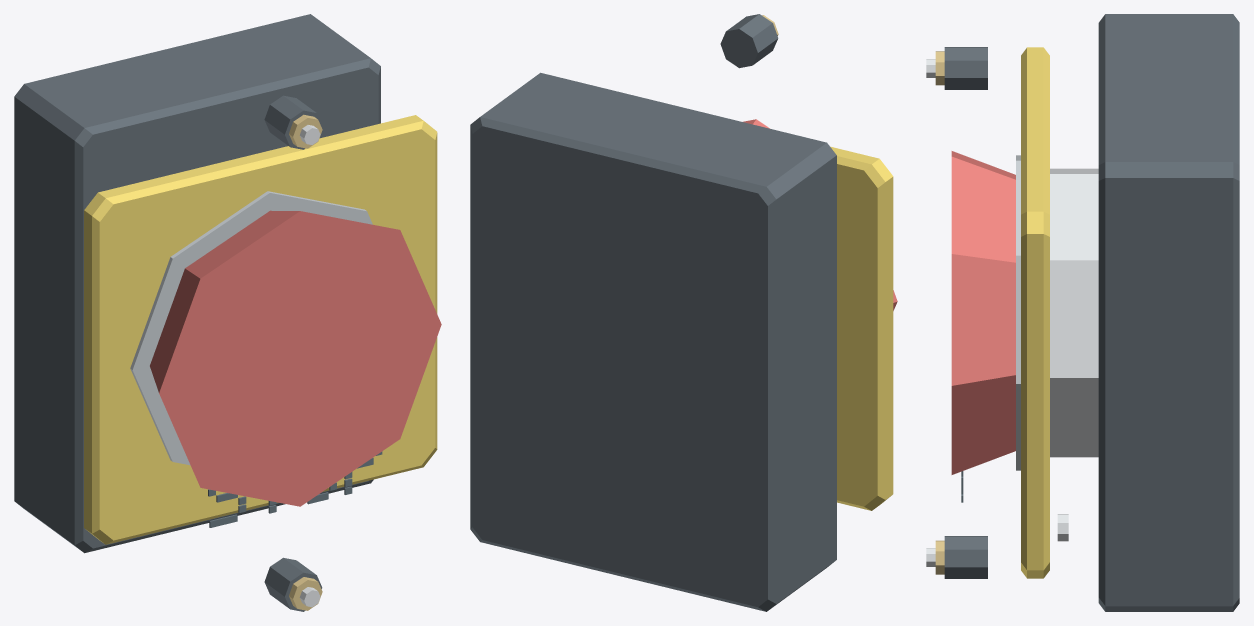
The model's file is emergencyStop.glb.
3 renders of one model, left to right at view 1: azimuth 30°, elevation 25°; view 2: azimuth 150°, elevation 25°; view 3: azimuth 270°, elevation 25°, orthographic. The views are drawn at different scales.
Visible parts, largest first — view 1: emergencyStop-board; view 2: emergencyStop-board; view 3: emergencyStop-board.
Boxes of the visible parts, x1=… form: emergencyStop-board: x1=14, y1=14, x2=441, y2=611; emergencyStop-board: x1=470, y1=14, x2=897, y2=611; emergencyStop-board: x1=926, y1=14, x2=1239, y2=611.
Size of the model in its own units: 1.76 by 2.44 by 1.31.
